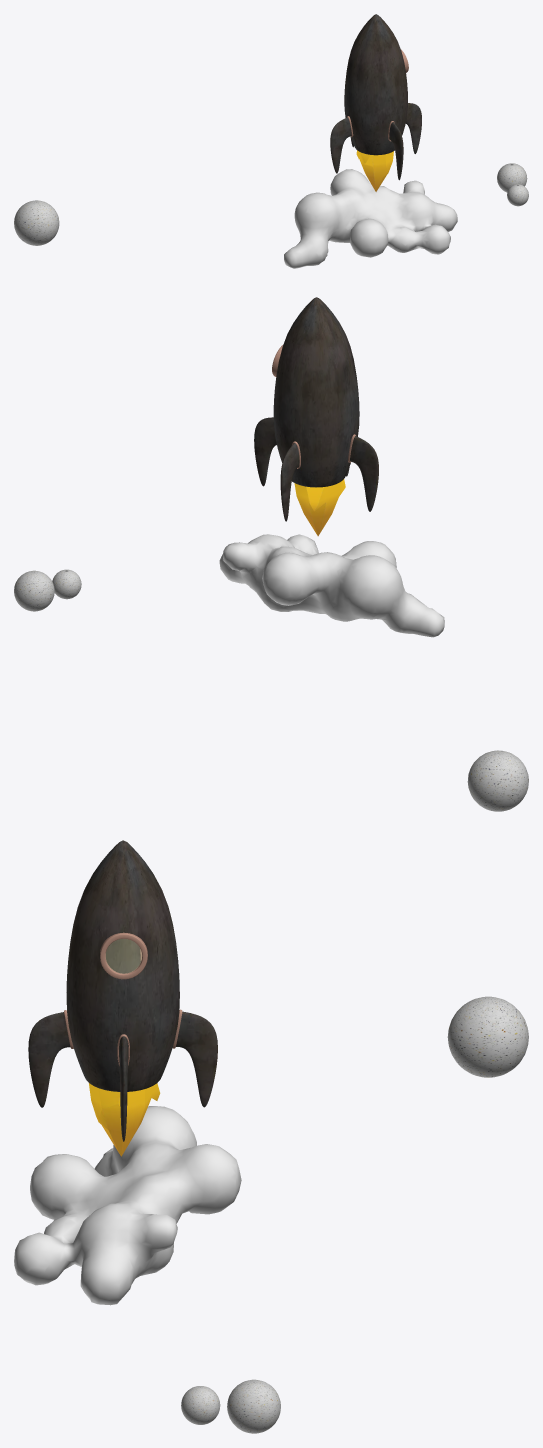
Rendered from rocket-transformed.glb.
3 renders of one model, top to bottom at view 1: azimuth 30°, elevation 25°; view 2: azimuth 150°, elevation 25°; view 3: azimuth 270°, elevation 25°, orthographic. The views are drawn at different scales.
Parts seen in each view (by area): view 1: smoke, rocket, spheres; view 2: rocket, smoke, spheres; view 3: rocket, smoke, spheres.
Part boxes in pixels (x1,y1,x2,y2): smoke: (284, 169, 457, 268); rocket: (330, 14, 421, 191); spheres: (14, 163, 528, 245); rocket: (254, 297, 378, 536); smoke: (219, 534, 444, 637); spheres: (14, 569, 528, 811); rocket: (28, 840, 217, 1156); smoke: (14, 1106, 241, 1305); spheres: (181, 996, 528, 1433).
Bounding box in the file's own units: 2.58 × 1.38 × 1.46.
Materials: 5 (3 with a texture image).
